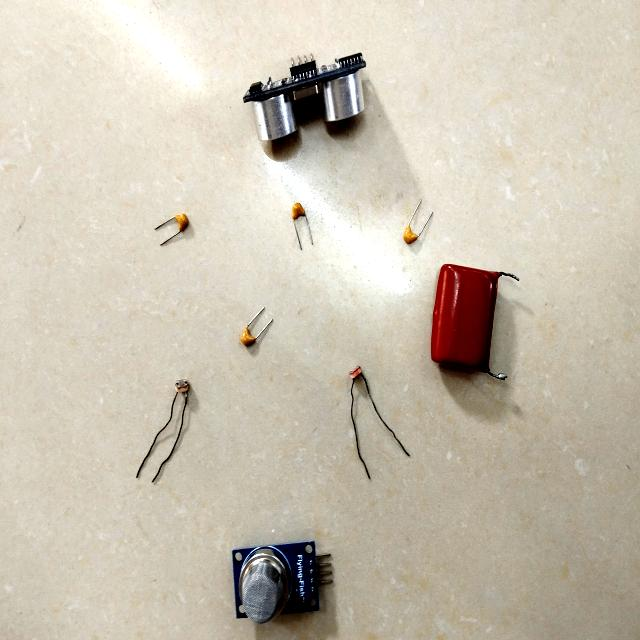capacitor: (431, 265, 498, 379), (242, 310, 273, 353), (292, 203, 312, 243), (170, 214, 189, 232), (403, 227, 418, 244)
